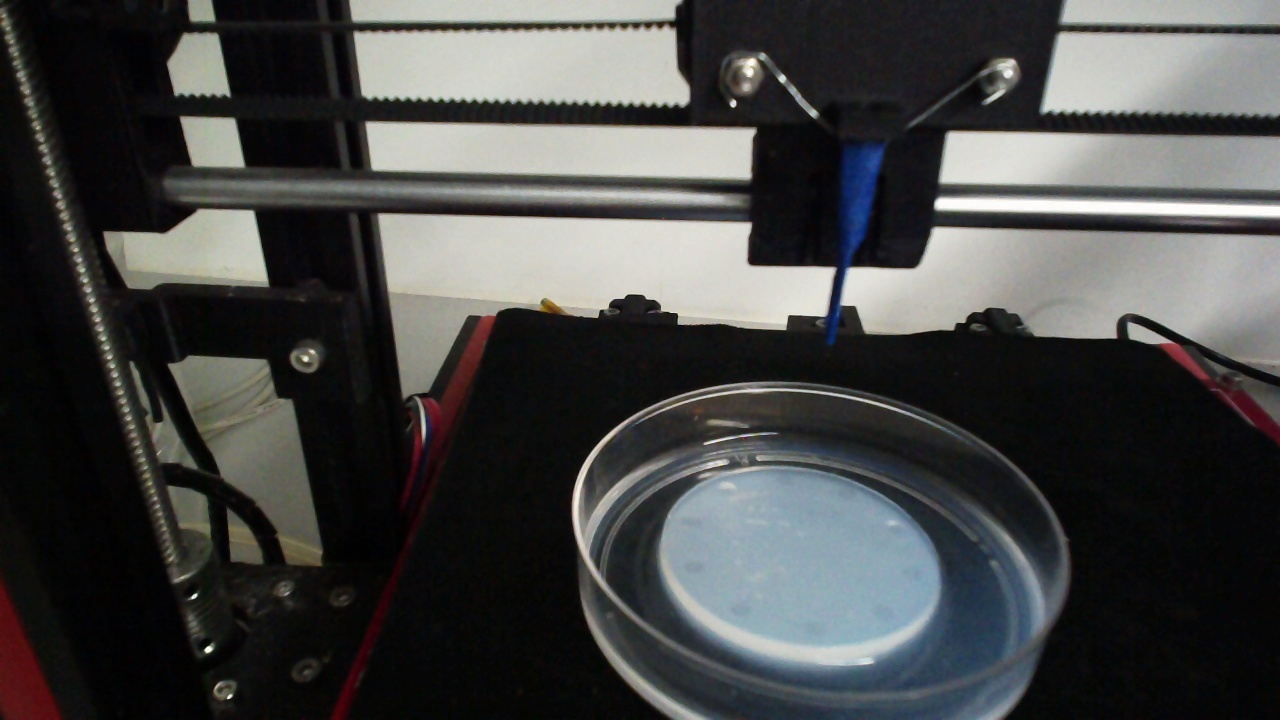groove: (869, 603, 894, 623), (901, 565, 927, 584), (884, 517, 908, 537), (680, 558, 705, 576), (804, 620, 829, 638), (714, 479, 738, 497), (730, 601, 754, 619), (678, 514, 703, 530), (835, 486, 858, 501), (771, 472, 794, 487)
needle: (825, 146, 883, 343)
